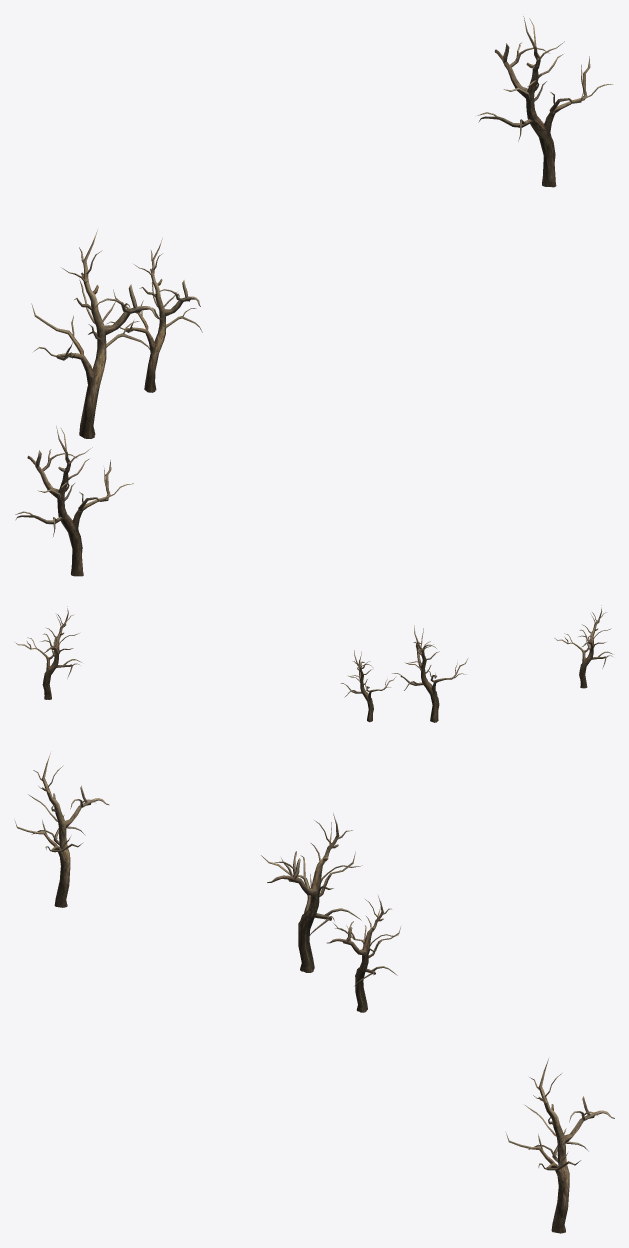
File: kushu01.fbx
3 renders of one model, top to bottom at view 1: azimuth 30°, elevation 25°; view 2: azimuth 150°, elevation 25°; view 3: azimuth 270°, elevation 25°, orthographic. The views are drawn at different scales.
Visible parts, largest first — view 1: kushu01; view 2: kushu01; view 3: kushu01.
Part boxes in pixels (left/top/right/bottom): kushu01: left=15, top=16, right=612, bottom=576; kushu01: left=15, top=605, right=612, bottom=722; kushu01: left=14, top=753, right=614, bottom=1233.
Bounding box in the file's own units: 5334 × 1121 × 3610.
1 material, 1 textured.
